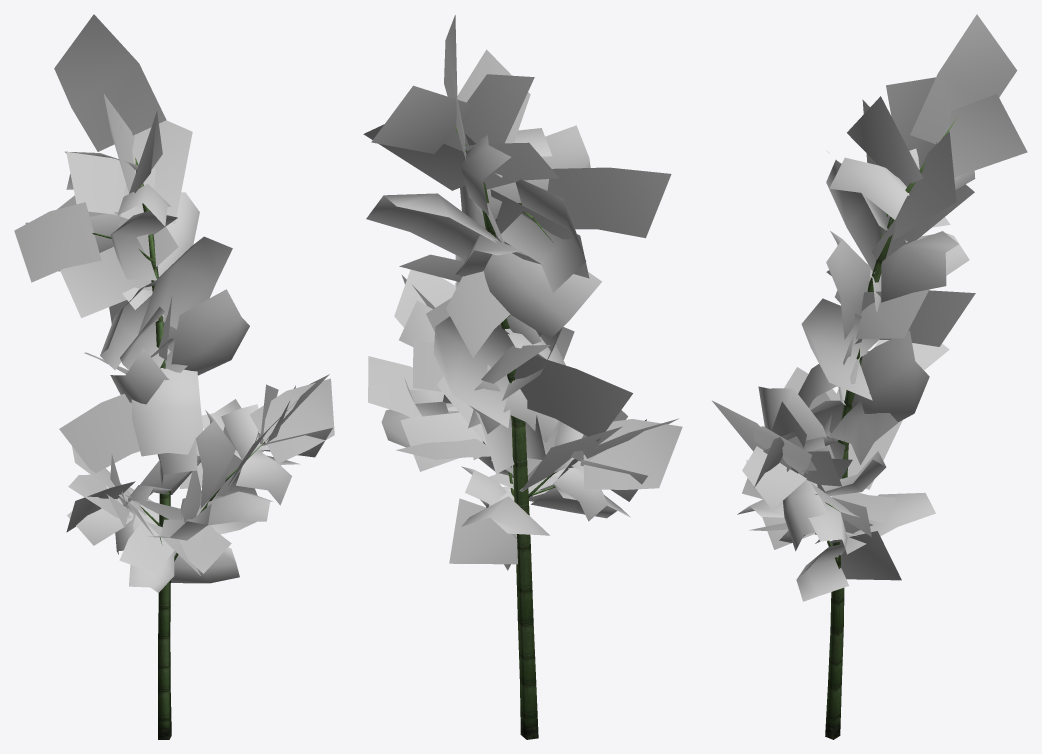
The model's file is JiaYeSi__ZhuZi_1.FBX.
3 renders of one model, left to right at view 1: azimuth 30°, elevation 25°; view 2: azimuth 150°, elevation 25°; view 3: azimuth 270°, elevation 25°, orthographic. The views are drawn at different scales.
Visible parts, largest first — view 1: JiaYeSi__ZhuZi_1b, JiaYeSi__ZhuZi_1a; view 2: JiaYeSi__ZhuZi_1b, JiaYeSi__ZhuZi_1a; view 3: JiaYeSi__ZhuZi_1b, JiaYeSi__ZhuZi_1a.
Part boxes in pixels (x1,y1,x2,y2): JiaYeSi__ZhuZi_1b: (14, 14, 334, 592); JiaYeSi__ZhuZi_1a: (92, 157, 268, 739); JiaYeSi__ZhuZi_1b: (363, 15, 682, 570); JiaYeSi__ZhuZi_1a: (455, 126, 602, 739); JiaYeSi__ZhuZi_1b: (712, 14, 1027, 601); JiaYeSi__ZhuZi_1a: (825, 117, 957, 739).
Bounding box in the file's own units: 352 × 810 × 322.
